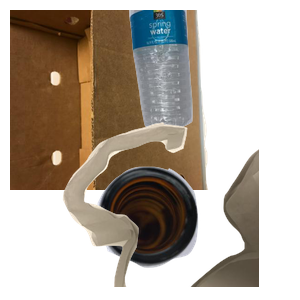cardboard: (10, 10, 211, 190)
glass: (95, 164, 286, 300)
plastic: (127, 10, 300, 134)
trash: (60, 120, 300, 300)
